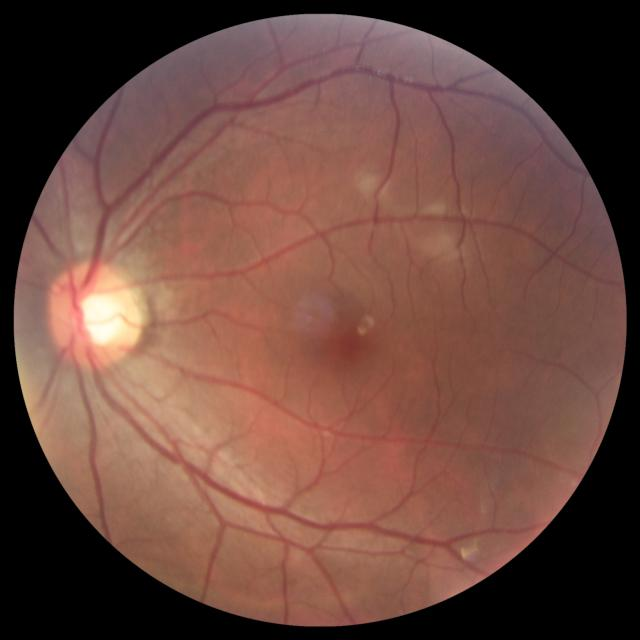OC: (72, 289, 123, 345)
OD: (43, 260, 145, 372)
